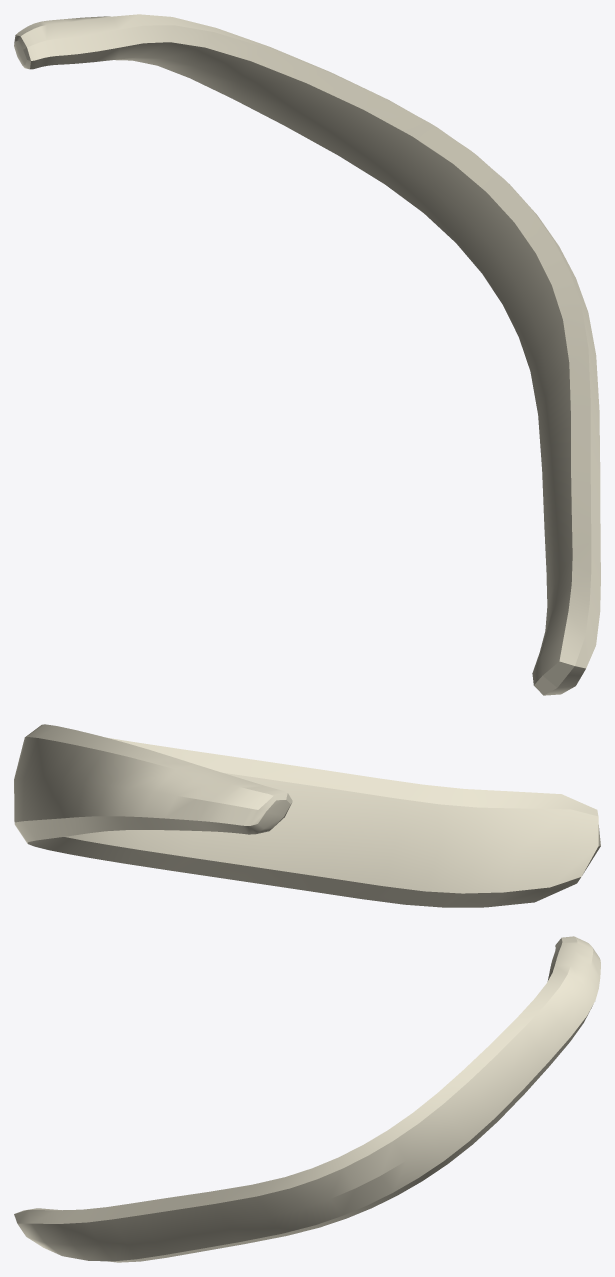
Rendered from Os_COTE1.fbx.
3 views of the same model, one above another, from view 1: azimuth 30°, elevation 25°; view 2: azimuth 150°, elevation 25°; view 3: azimuth 270°, elevation 25° (orthographic). The views are drawn at different scales.
Parts seen in each view (by area): view 1: Os Côté.1; view 2: Os Côté.1; view 3: Os Côté.1.
Part boxes in pixels (x1,y1,x2,y2): Os Côté.1: [14, 14, 600, 695]; Os Côté.1: [14, 724, 600, 907]; Os Côté.1: [14, 936, 600, 1262].
Size of the model in its own units: 543 by 577 by 1127.
